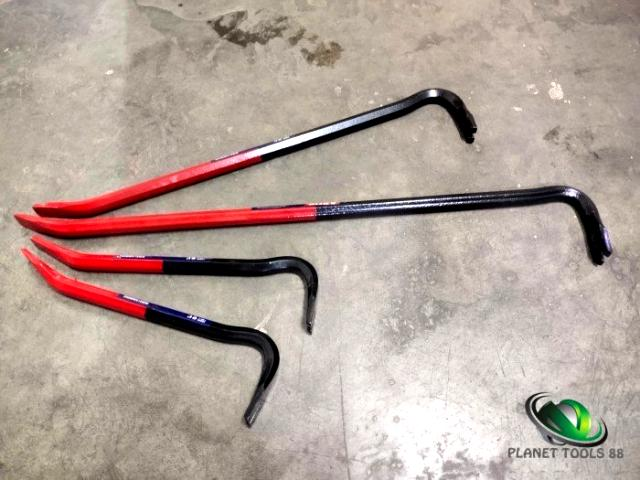crow bar: (12, 168, 640, 278), (26, 80, 488, 214), (4, 245, 290, 431), (29, 238, 330, 338)
